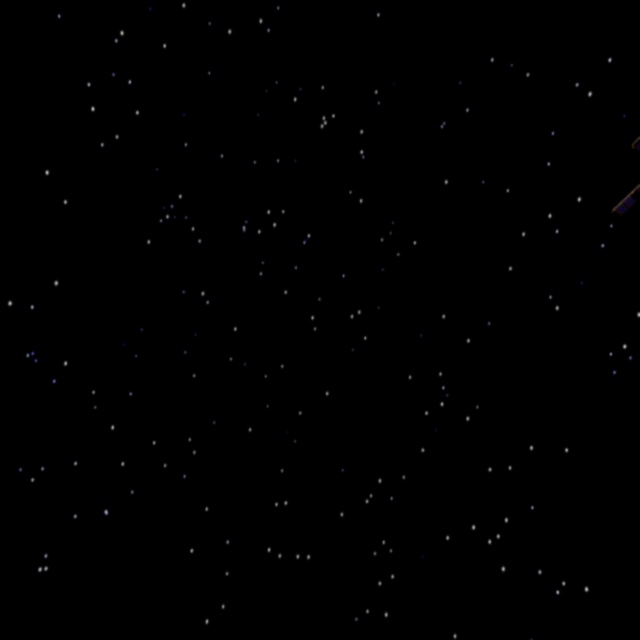satellite: (610, 93, 640, 234)
